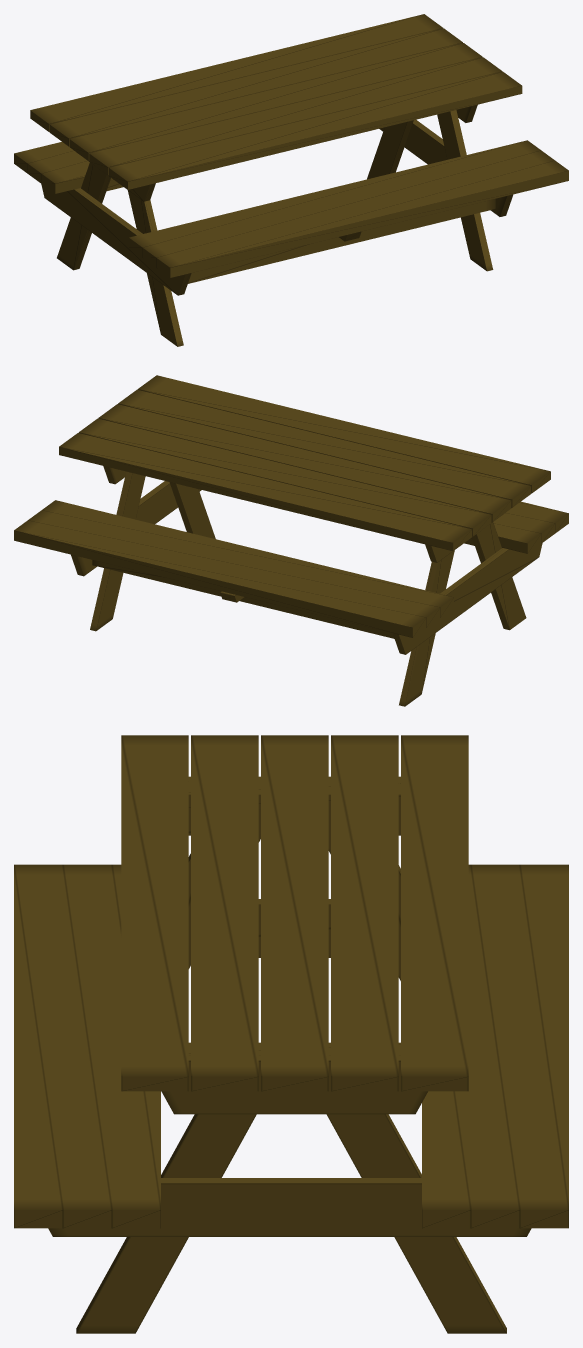
The picture shows the model from 3 angles, top to bottom: view 1: azimuth 30°, elevation 25°; view 2: azimuth 150°, elevation 25°; view 3: azimuth 270°, elevation 25°; orthographic projection. The views are drawn at different scales.
Parts seen in each view (by area): view 1: world; view 2: world; view 3: world.
Boxes of the visible parts, left/top/right/bottom form: world: left=14, top=14, right=568, bottom=346; world: left=14, top=375, right=568, bottom=706; world: left=14, top=735, right=568, bottom=1333.
Size of the model in its own units: 1.67 by 0.6397 by 1.1.
Materials: 1 (1 with a texture image).
